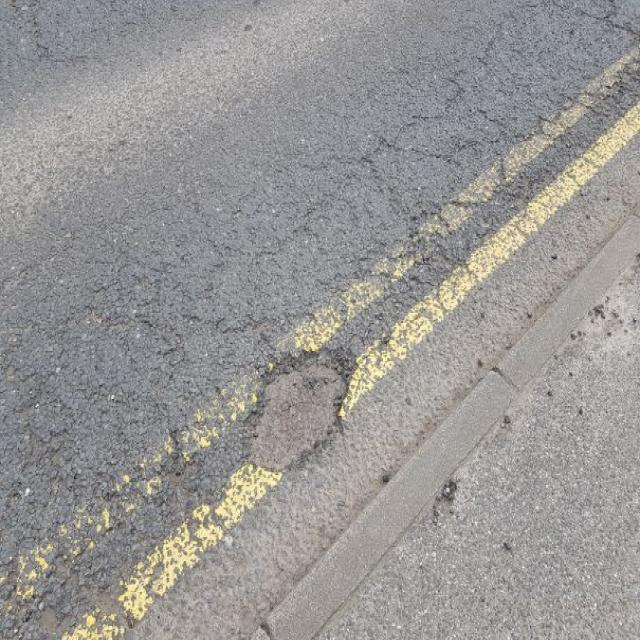Pothole: (235, 344, 359, 474)
